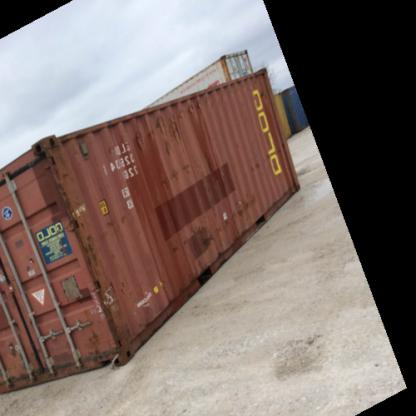Damage: (40, 154, 111, 305), (150, 107, 209, 154), (184, 219, 226, 254), (72, 318, 105, 356), (158, 160, 196, 185), (232, 189, 260, 216), (121, 125, 150, 151), (17, 249, 43, 273), (242, 151, 262, 175)
